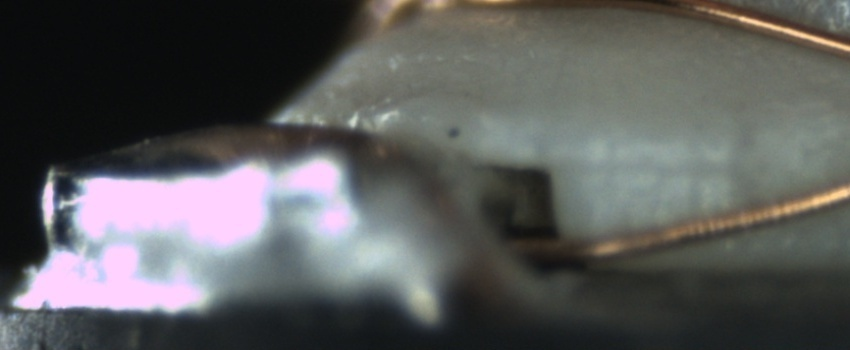DL: (566, 131, 731, 200)
